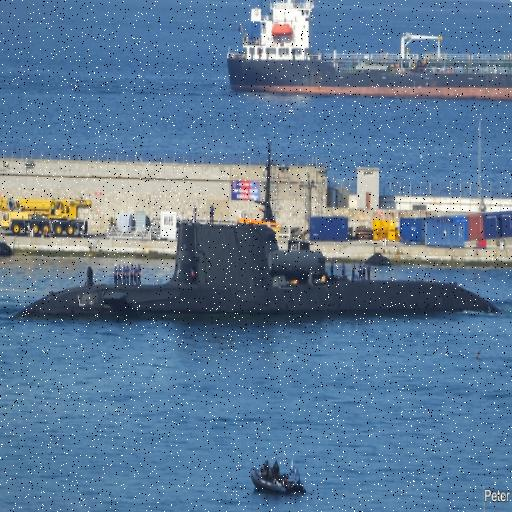submarine: (9, 226, 499, 313)
